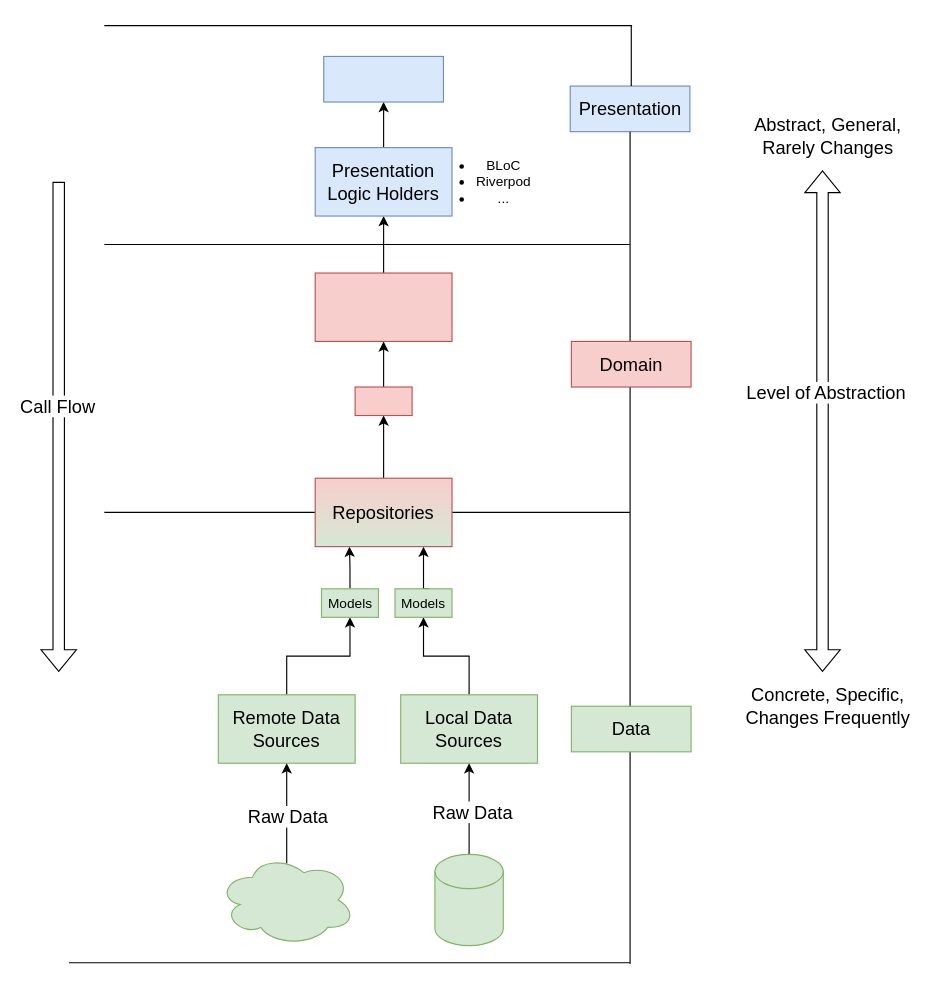
This 945x988 diagram has some shape labels left out. Here are the shapes that lost their labels. From the top down, the centre of each, then its label:
(x=383, y=78): Widgets
(x=383, y=306): Use Cases
(x=383, y=401): Entities
(x=286, y=899): API
(x=468, y=899): DB
